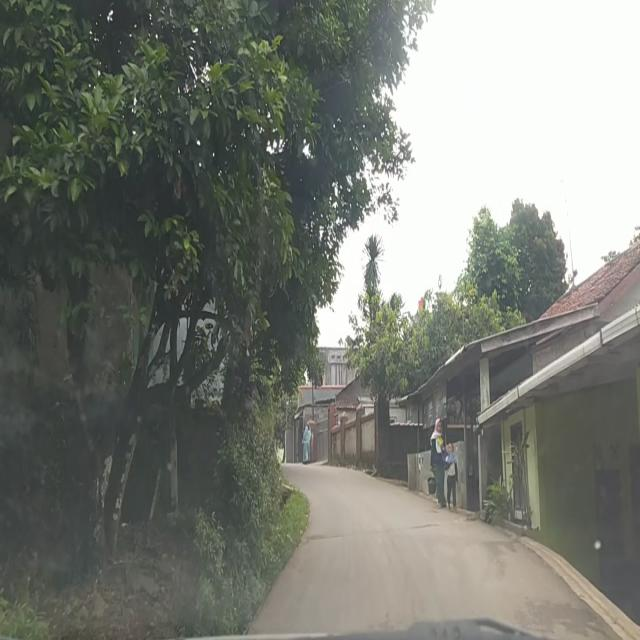Sewer Cover: (308, 519, 456, 543)
